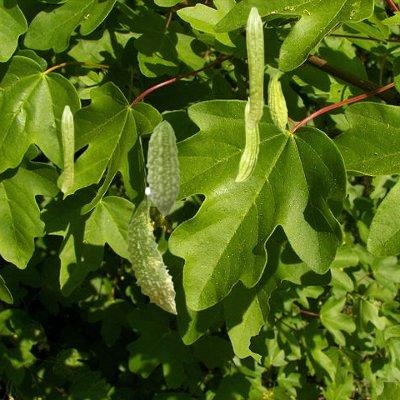ampalaya: (125, 186, 177, 314), (145, 119, 180, 217), (245, 6, 264, 129), (234, 96, 260, 182), (267, 67, 287, 136), (60, 105, 74, 193)
